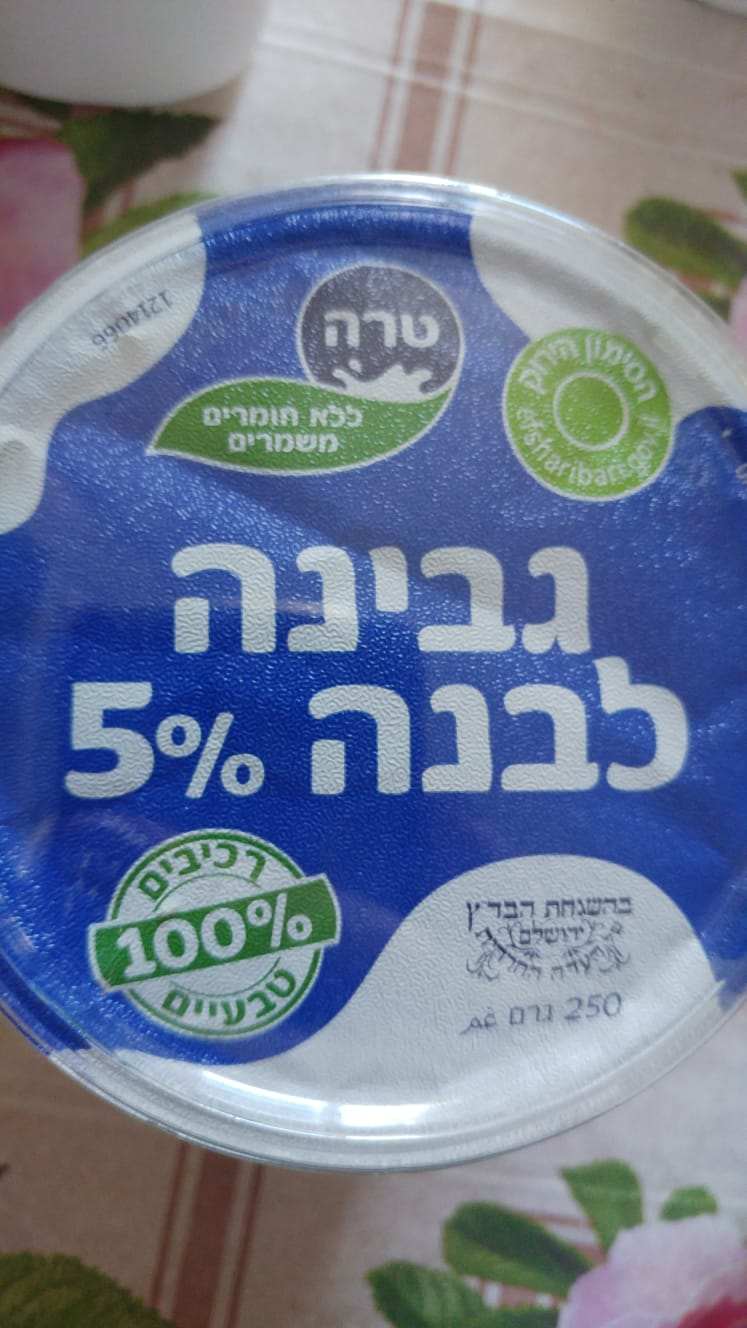green: (501, 329, 678, 507)
